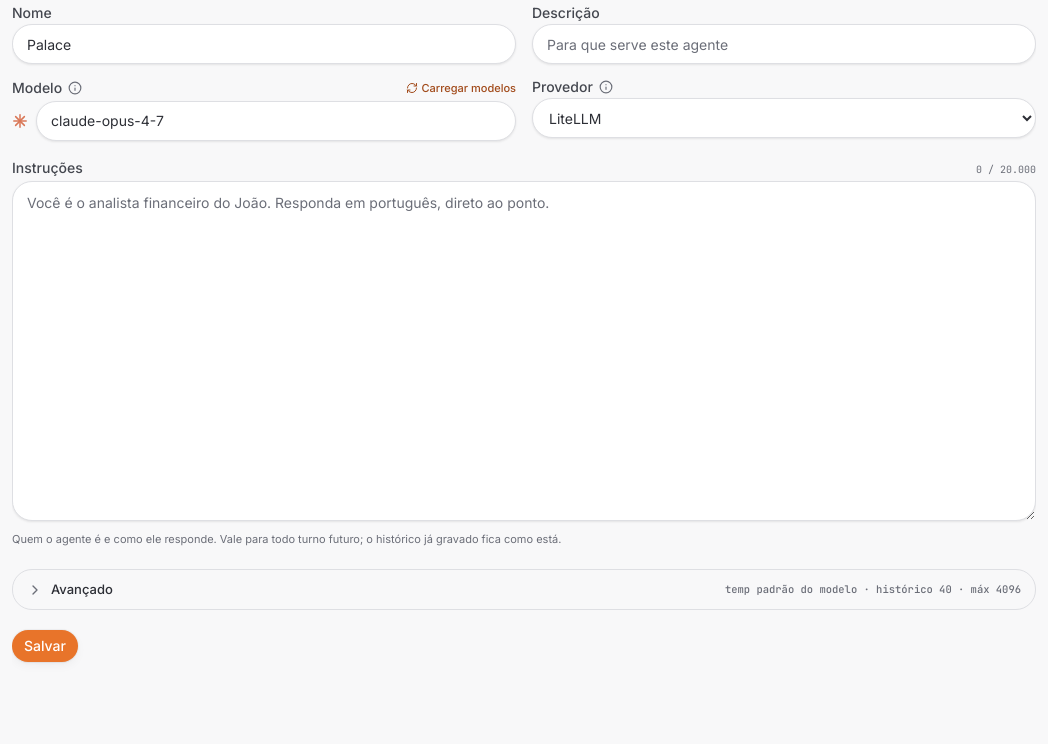
Test: disables the slider while there is no preference
Click the button "Avançado".
click(82, 589)  # box [13,570,1035,609]
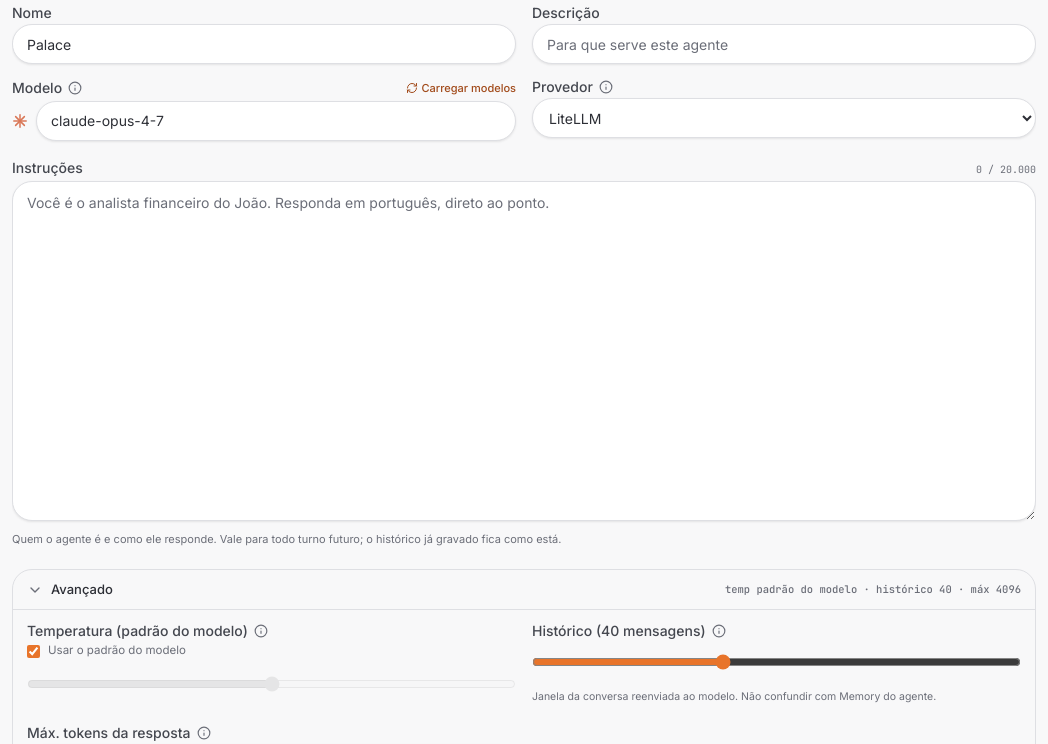
Expected: the slider with id "a-temp" is disabled, [27,664,516,704]
